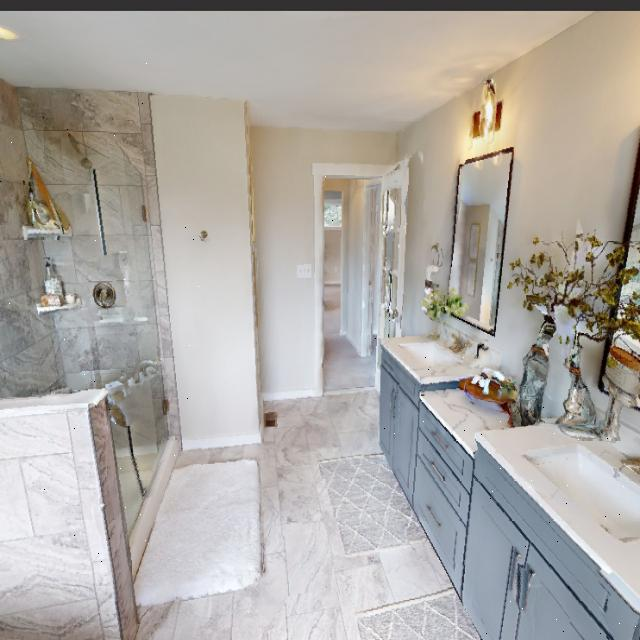door-frame: (311, 172, 398, 398)
sink: (480, 393, 639, 640), (379, 323, 473, 444)
toilet: (0, 61, 201, 580)
